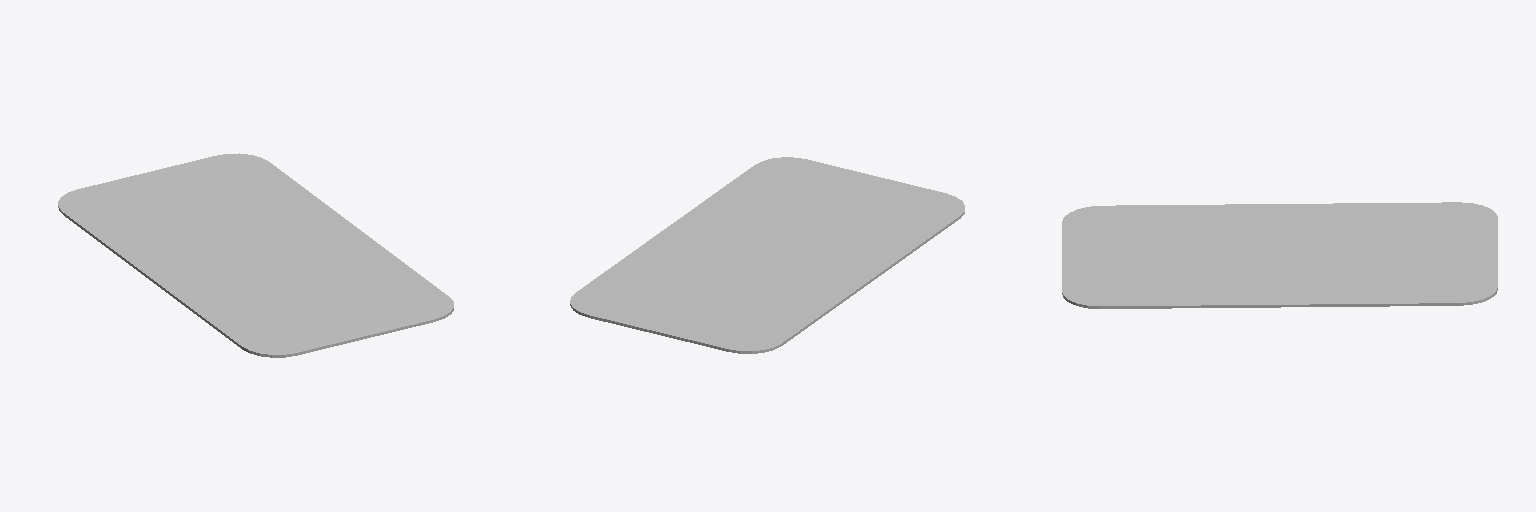
The model's file is ace_diamonds.obj.
The picture shows the model from 3 angles: view 1: azimuth 30°, elevation 25°; view 2: azimuth 150°, elevation 25°; view 3: azimuth 270°, elevation 25°; orthographic projection.
Parts seen in each view (by area): view 1: card_frame.003_Plane.012; view 2: card_frame.003_Plane.012; view 3: card_frame.003_Plane.012.
Boxes of the visible parts, x1=… form: card_frame.003_Plane.012: x1=58, y1=153, x2=453, y2=357; card_frame.003_Plane.012: x1=570, y1=157, x2=964, y2=353; card_frame.003_Plane.012: x1=1062, y1=202, x2=1497, y2=308.
Bounding box in the file's own units: 1.09 × 0.0366 × 2.